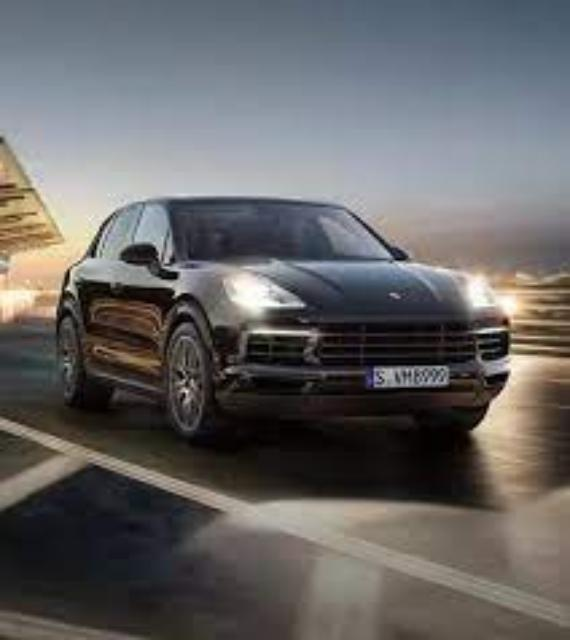porsche: (54, 195, 512, 442)
